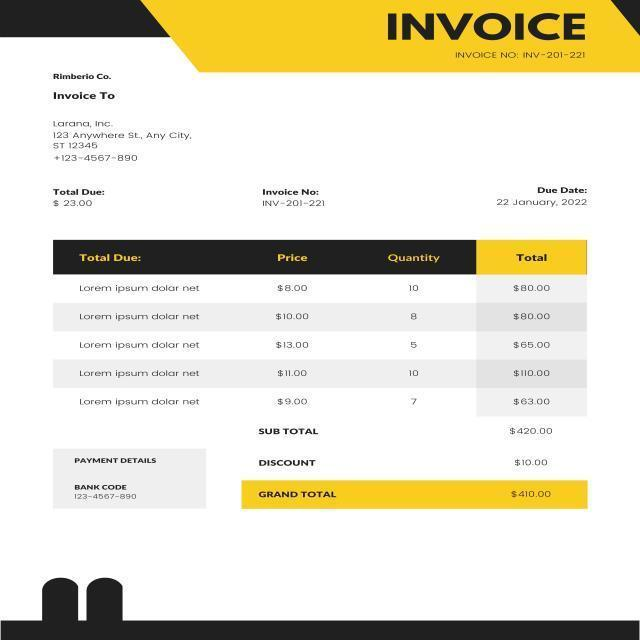paragraph: (254, 417, 567, 506), (40, 67, 198, 166), (381, 5, 625, 63), (68, 453, 169, 506), (481, 182, 600, 213), (43, 181, 116, 213), (257, 185, 336, 214)
table: (53, 242, 586, 413)
